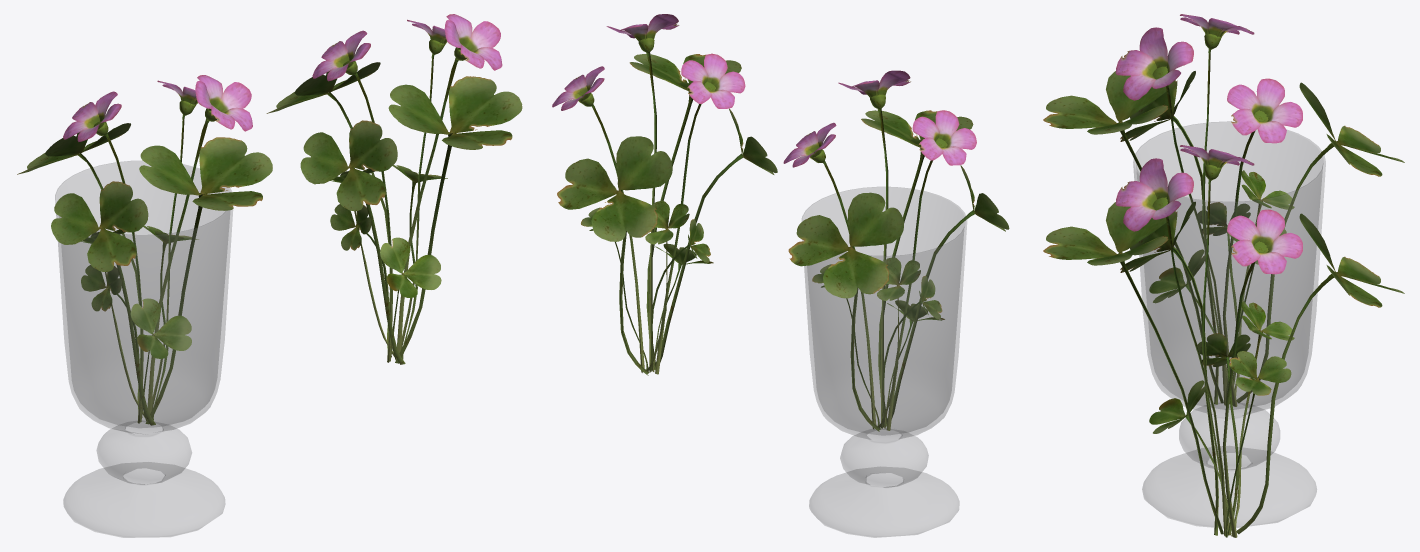
Rendered from fixtures-vase.glb.
3 views of the same model, side by side, from view 1: azimuth 30°, elevation 25°; view 2: azimuth 150°, elevation 25°; view 3: azimuth 270°, elevation 25° (orthographic). The views are drawn at different scales.
Parts seen in each view (by area): view 1: GlassAlpha, Flowers1, Flowers2; view 2: GlassAlpha, Flowers2, Flowers1; view 3: GlassAlpha, Flowers2, Flowers1.
Boxes of the visible parts, box(x1,y1,x2,y2) form: GlassAlpha: box(55, 161, 232, 537); Flowers1: box(17, 75, 272, 425); Flowers2: box(266, 14, 522, 364); GlassAlpha: box(802, 187, 966, 537); Flowers2: box(552, 14, 777, 375); Flowers1: box(783, 70, 1009, 431); GlassAlpha: box(1133, 121, 1325, 527); Flowers2: box(1043, 145, 1404, 537); Flowers1: box(1043, 14, 1404, 406).
Size of the model in its own units: 0.2173 by 0.2032 by 0.1425.
Materials: 2 (1 with a texture image).
